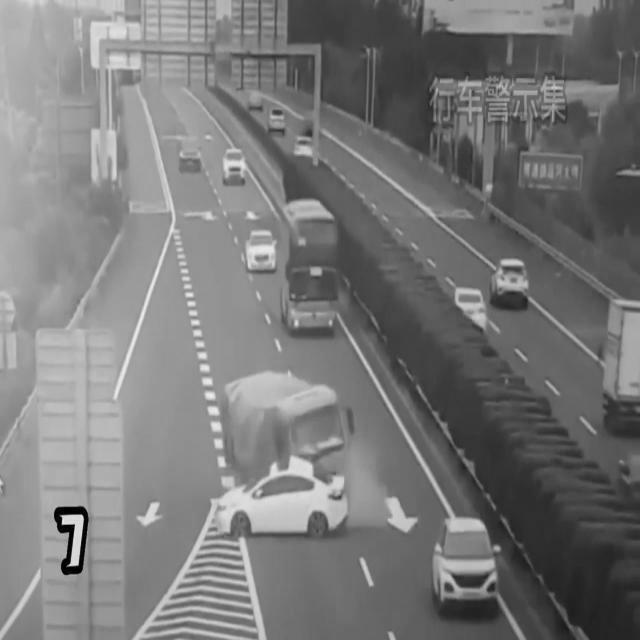accident: (203, 364, 366, 549)
vehicle: (279, 197, 339, 336), (431, 511, 502, 615), (594, 293, 640, 446), (488, 255, 532, 309), (448, 282, 492, 335), (241, 227, 279, 277), (172, 136, 206, 176), (220, 143, 249, 189), (265, 107, 291, 137), (291, 135, 314, 159), (245, 89, 267, 114)
